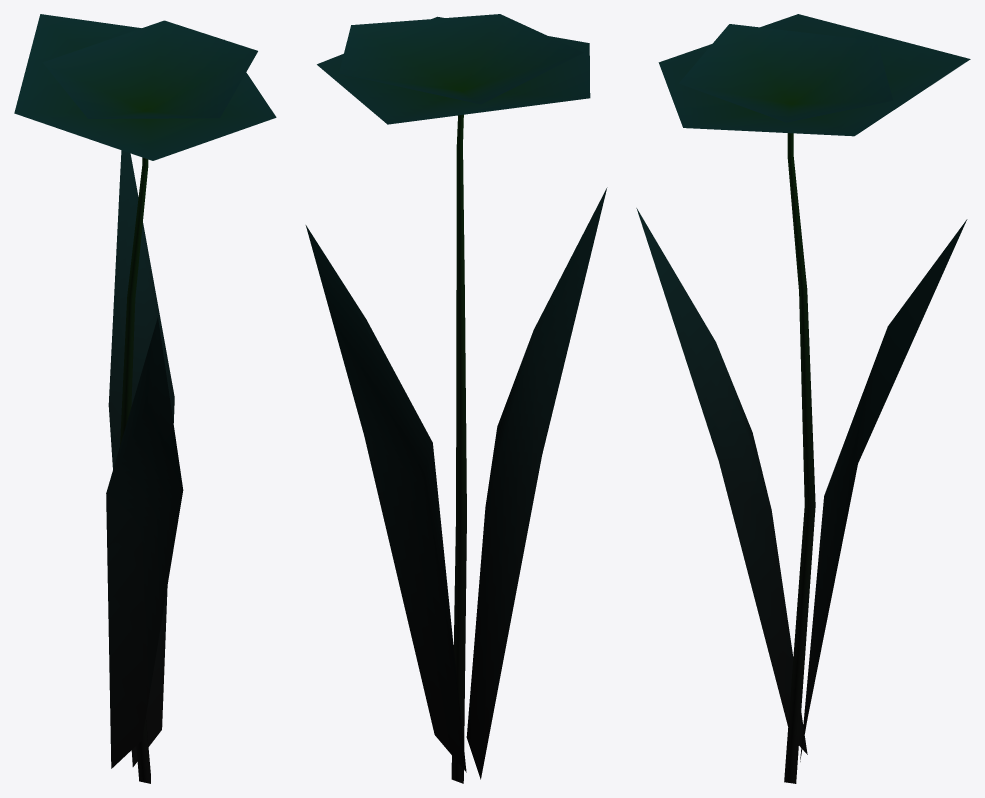
The model's file is TSI_Flower_06A.fbx.
3 views of the same model, side by side, from view 1: azimuth 30°, elevation 25°; view 2: azimuth 150°, elevation 25°; view 3: azimuth 270°, elevation 25° (orthographic). The views are drawn at different scales.
Visible parts, largest first — view 1: TSI_Flower_06A_LOD0; view 2: TSI_Flower_06A_LOD0; view 3: TSI_Flower_06A_LOD0.
Part boxes in pixels (box(x1,y1,x2,y2)): TSI_Flower_06A_LOD0: box(14, 14, 276, 783); TSI_Flower_06A_LOD0: box(305, 14, 607, 783); TSI_Flower_06A_LOD0: box(636, 14, 970, 783).
Bounding box in the file's own units: 29.61 × 84.06 × 35.66.
